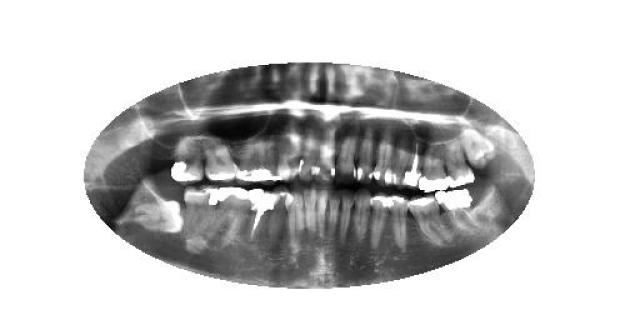Fillings: (205, 188, 250, 248), (202, 126, 238, 184), (172, 127, 206, 185), (439, 188, 481, 234), (238, 126, 272, 182), (188, 186, 220, 239), (416, 145, 449, 191), (410, 196, 438, 249), (445, 143, 475, 185), (371, 191, 390, 254), (389, 195, 410, 251)
Implant: (248, 188, 278, 240), (402, 134, 422, 188)
Restorations: (136, 199, 185, 235)
